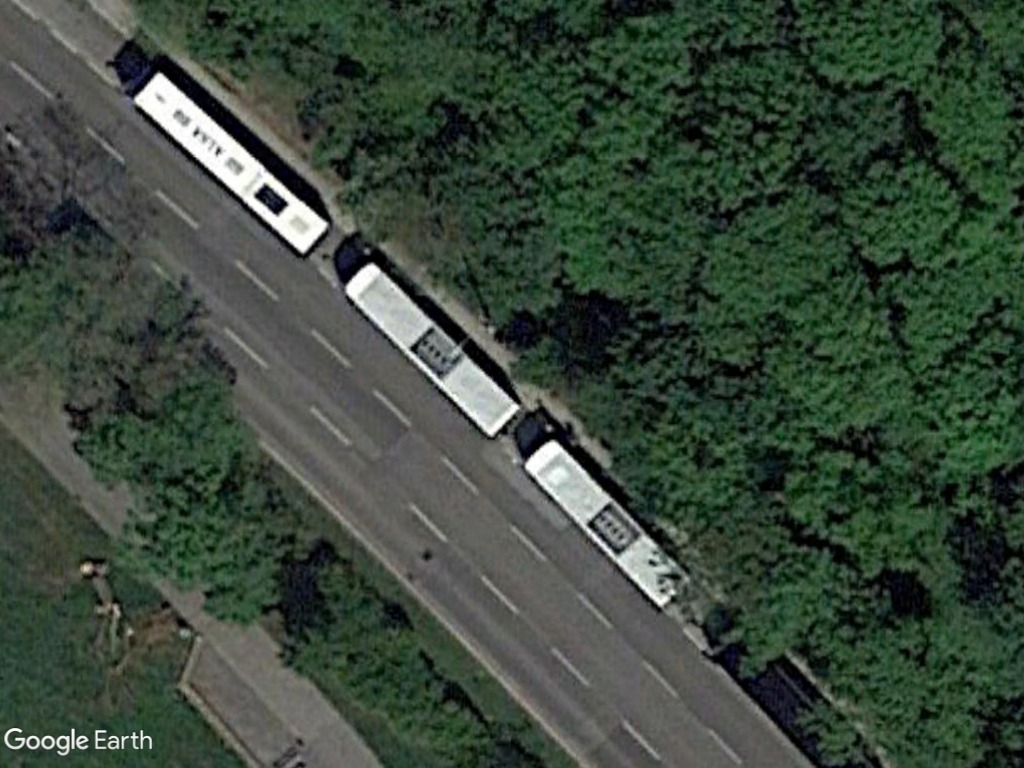bus: (130, 66, 335, 262), (341, 256, 523, 450), (523, 434, 692, 616)
